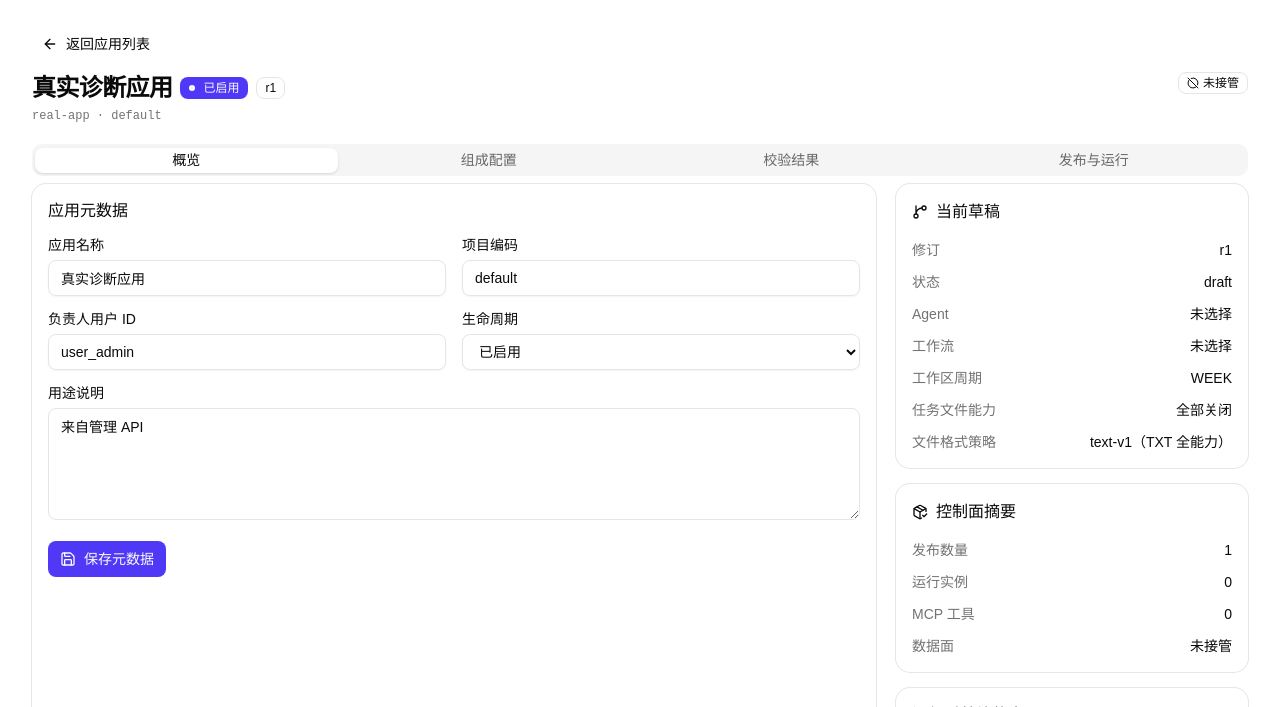
Business Application workbench › renders detail and keeps MCP tools as an explicit Agent subset
Step 1. Click the tab "组成配置" → (489, 160), box 338,148 -> 640,172
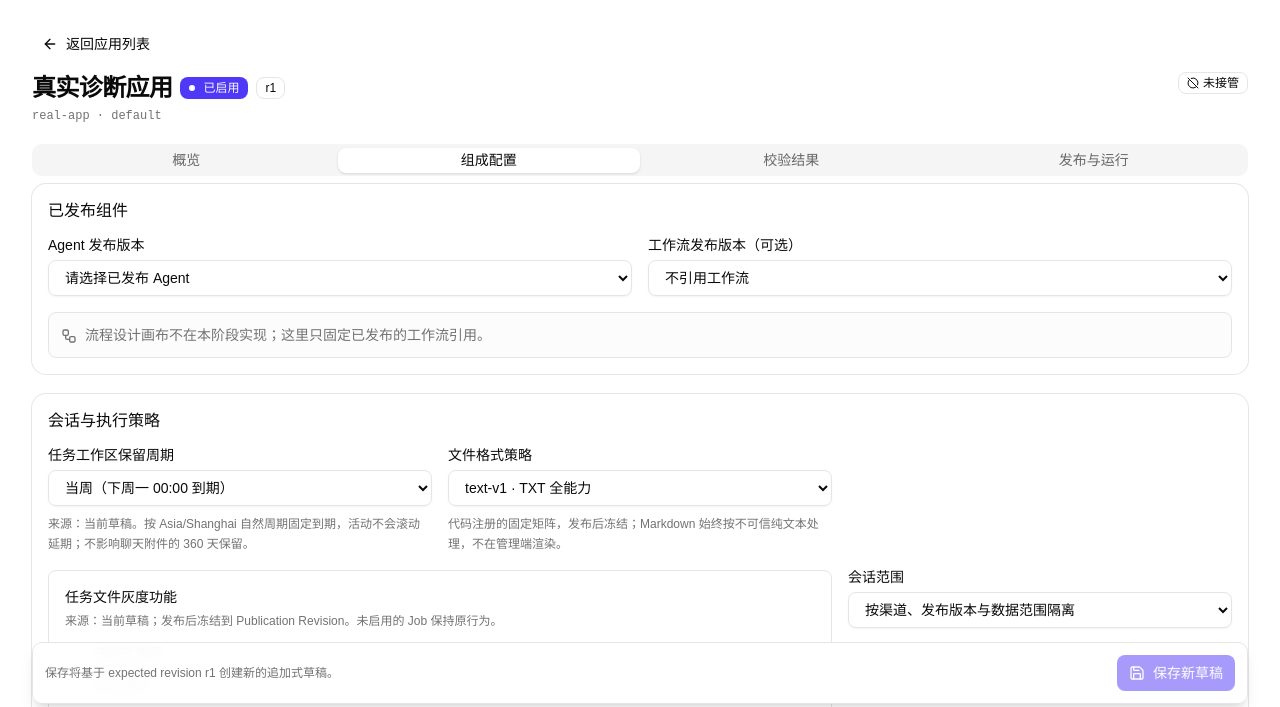
Step 2. Click the tab "发布与运行" → (1094, 160), box 942,148 -> 1245,172
(page scrolled)
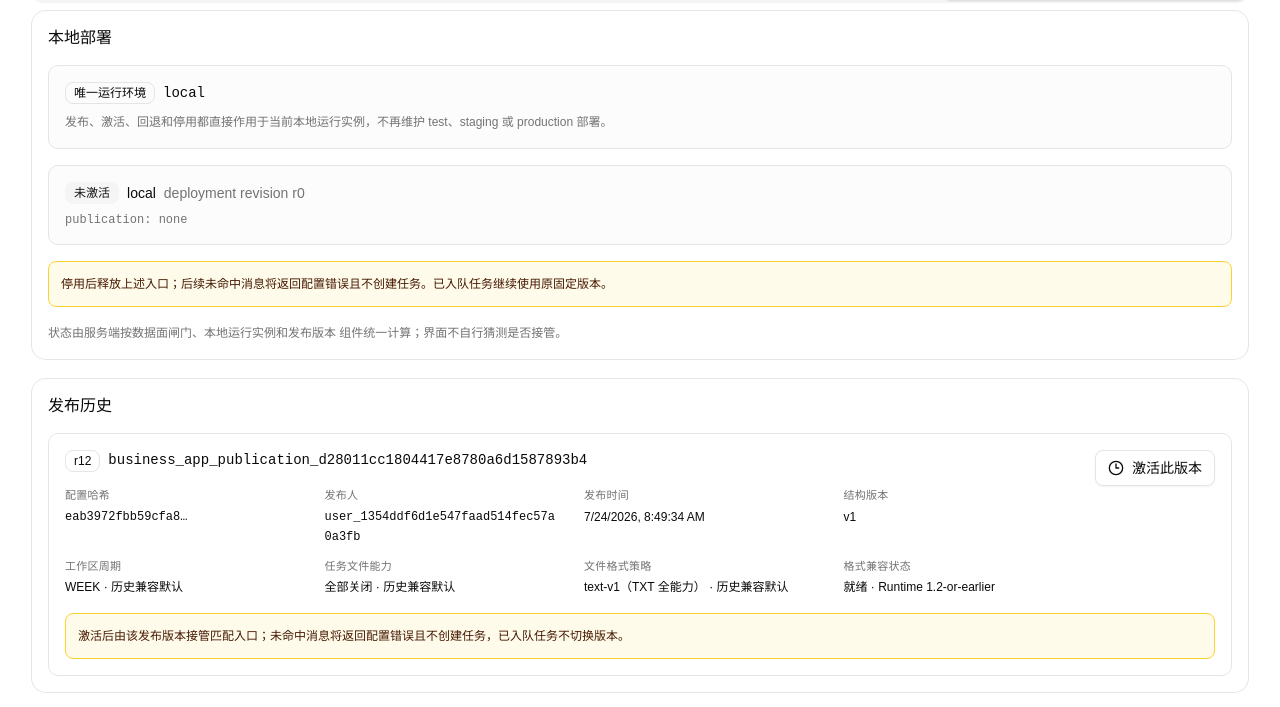
Now the text "配置哈希" is shown, box 65,489 -> 110,501
Now the text "发布人" is shown, box 324,489 -> 358,501
Now the text "发布时间" is shown, box 584,489 -> 629,501
